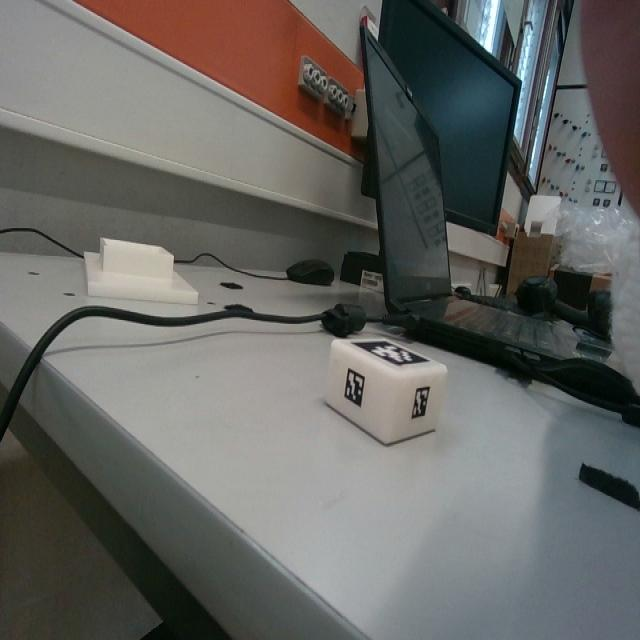Cube: (327, 340, 446, 445)
